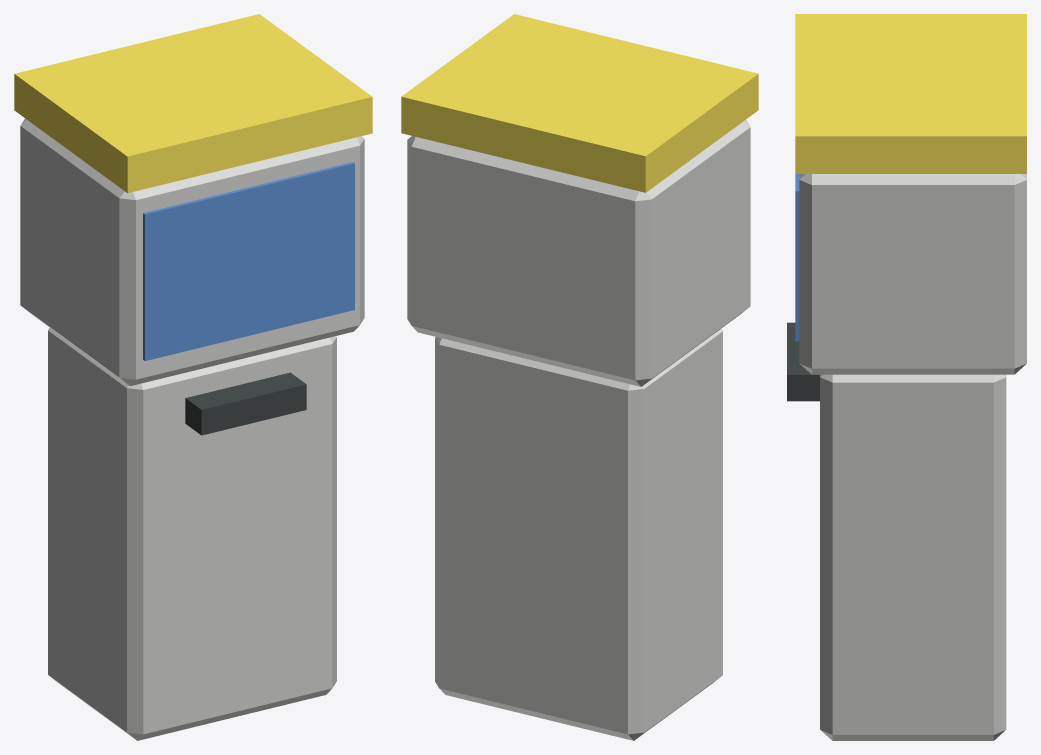
File: kiosk.glb
3 renders of one model, left to right at view 1: azimuth 30°, elevation 25°; view 2: azimuth 150°, elevation 25°; view 3: azimuth 270°, elevation 25°, orthographic. The views are drawn at different scales.
Visible parts, largest first — view 1: kiosk; view 2: kiosk; view 3: kiosk.
Boxes of the visible parts, x1,y1,x2,y2 form: kiosk: (14,14,372,740); kiosk: (401,14,758,740); kiosk: (787,14,1026,740).
Size of the model in its own units: 0.7 by 1.65 by 0.58.
